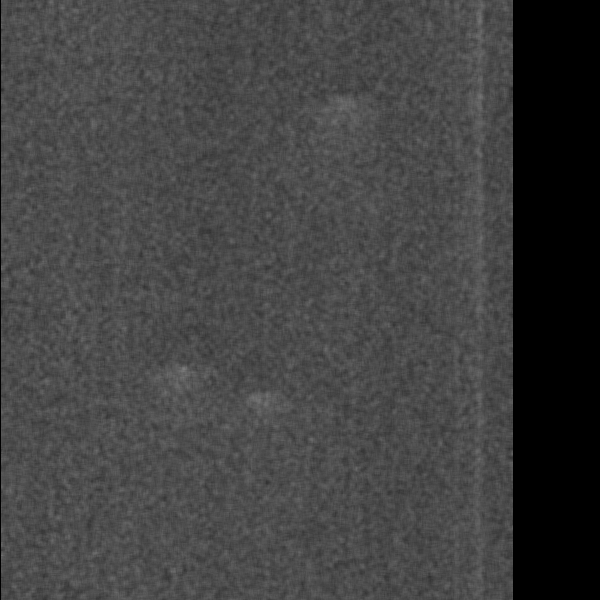spark: (179, 133, 236, 217), (463, 314, 497, 356), (195, 81, 221, 125)
